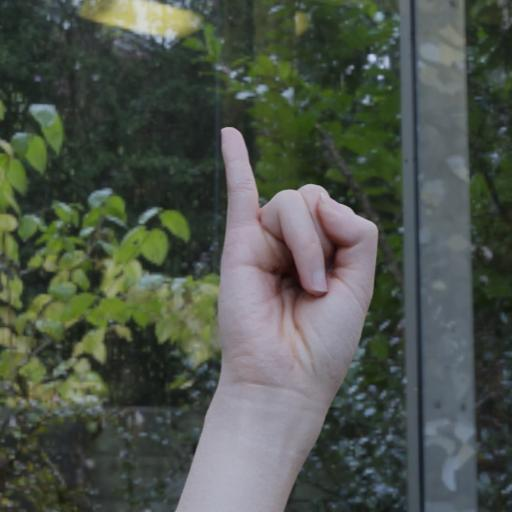I: (186, 100, 386, 459)
